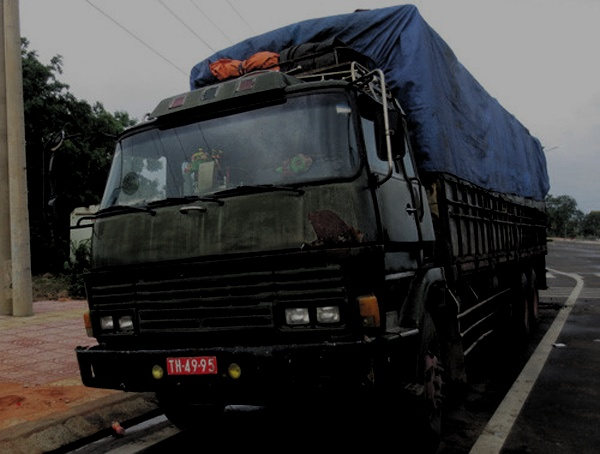plate: (165, 352, 218, 375)
